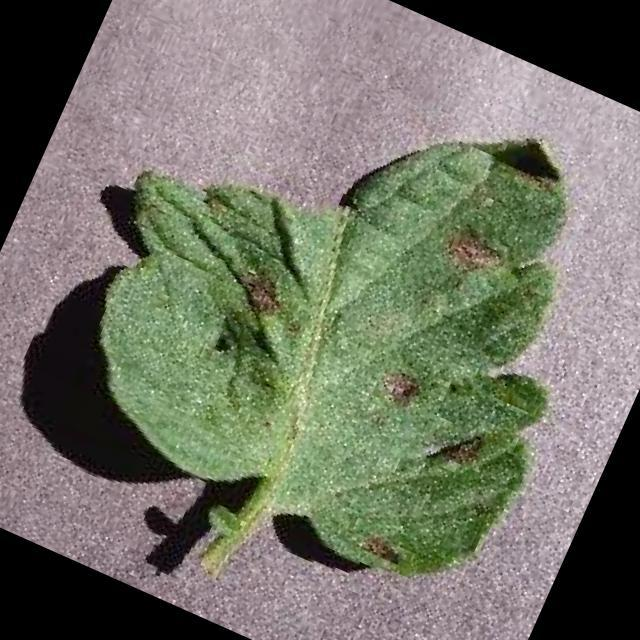Tomato Early blight leaf: (30, 0, 640, 615)
